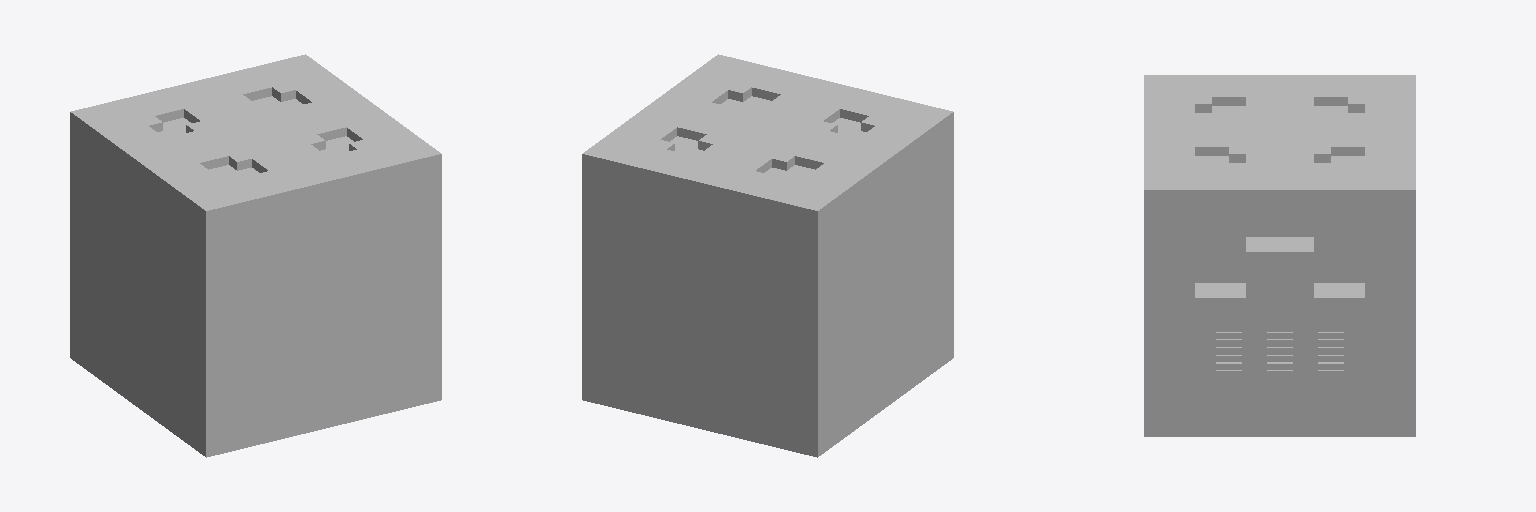
The model's file is petrified_fuel_generator.obj.
The picture shows the model from 3 angles: view 1: azimuth 30°, elevation 25°; view 2: azimuth 150°, elevation 25°; view 3: azimuth 270°, elevation 25°; orthographic projection.
Visible parts, largest first — view 1: Cube; view 2: Cube; view 3: Cube.
Boxes of the visible parts, x1=… form: Cube: x1=70, y1=54, x2=441, y2=457; Cube: x1=582, y1=54, x2=953, y2=457; Cube: x1=1144, y1=75, x2=1415, y2=436.
Size of the model in its own units: 0.84 by 0.84 by 0.84.